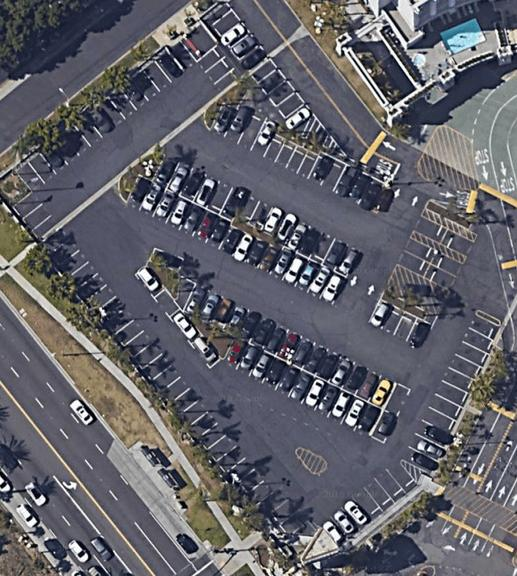parkingspot: (10, 189, 313, 537), (183, 282, 413, 419), (123, 176, 351, 308), (13, 41, 201, 195), (151, 153, 363, 279), (207, 103, 395, 217), (223, 337, 399, 446), (401, 314, 503, 475), (199, 0, 317, 131), (133, 264, 223, 371), (318, 461, 421, 549), (366, 300, 435, 351), (194, 44, 242, 95), (394, 236, 439, 280), (423, 250, 467, 293), (411, 215, 451, 246), (440, 227, 476, 259), (147, 247, 186, 275)
